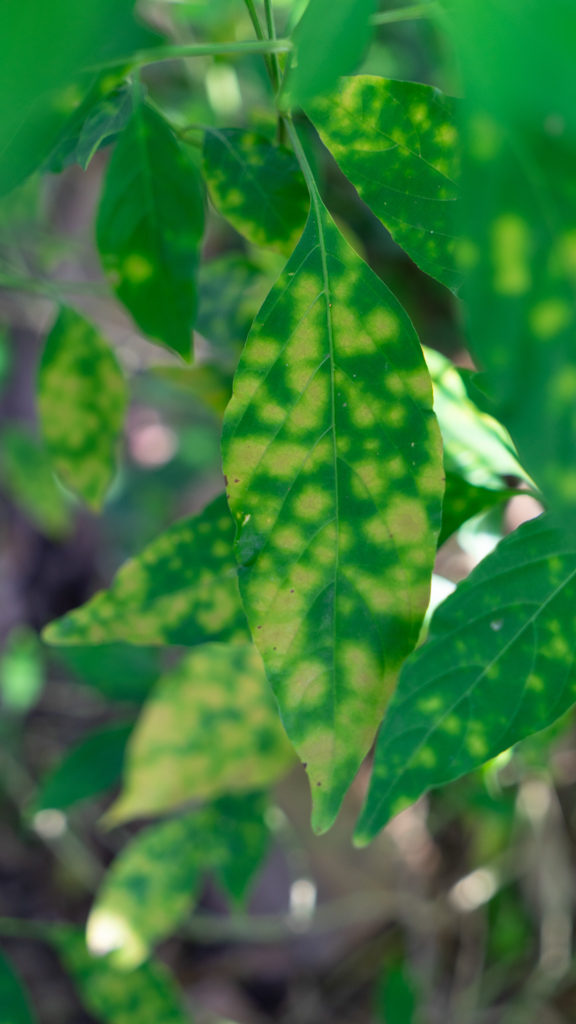Pepper yellow leaf: (232, 211, 431, 833), (320, 65, 575, 500), (100, 630, 288, 844), (44, 508, 233, 657), (29, 305, 130, 532)
